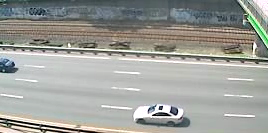car: (132, 102, 186, 128)
